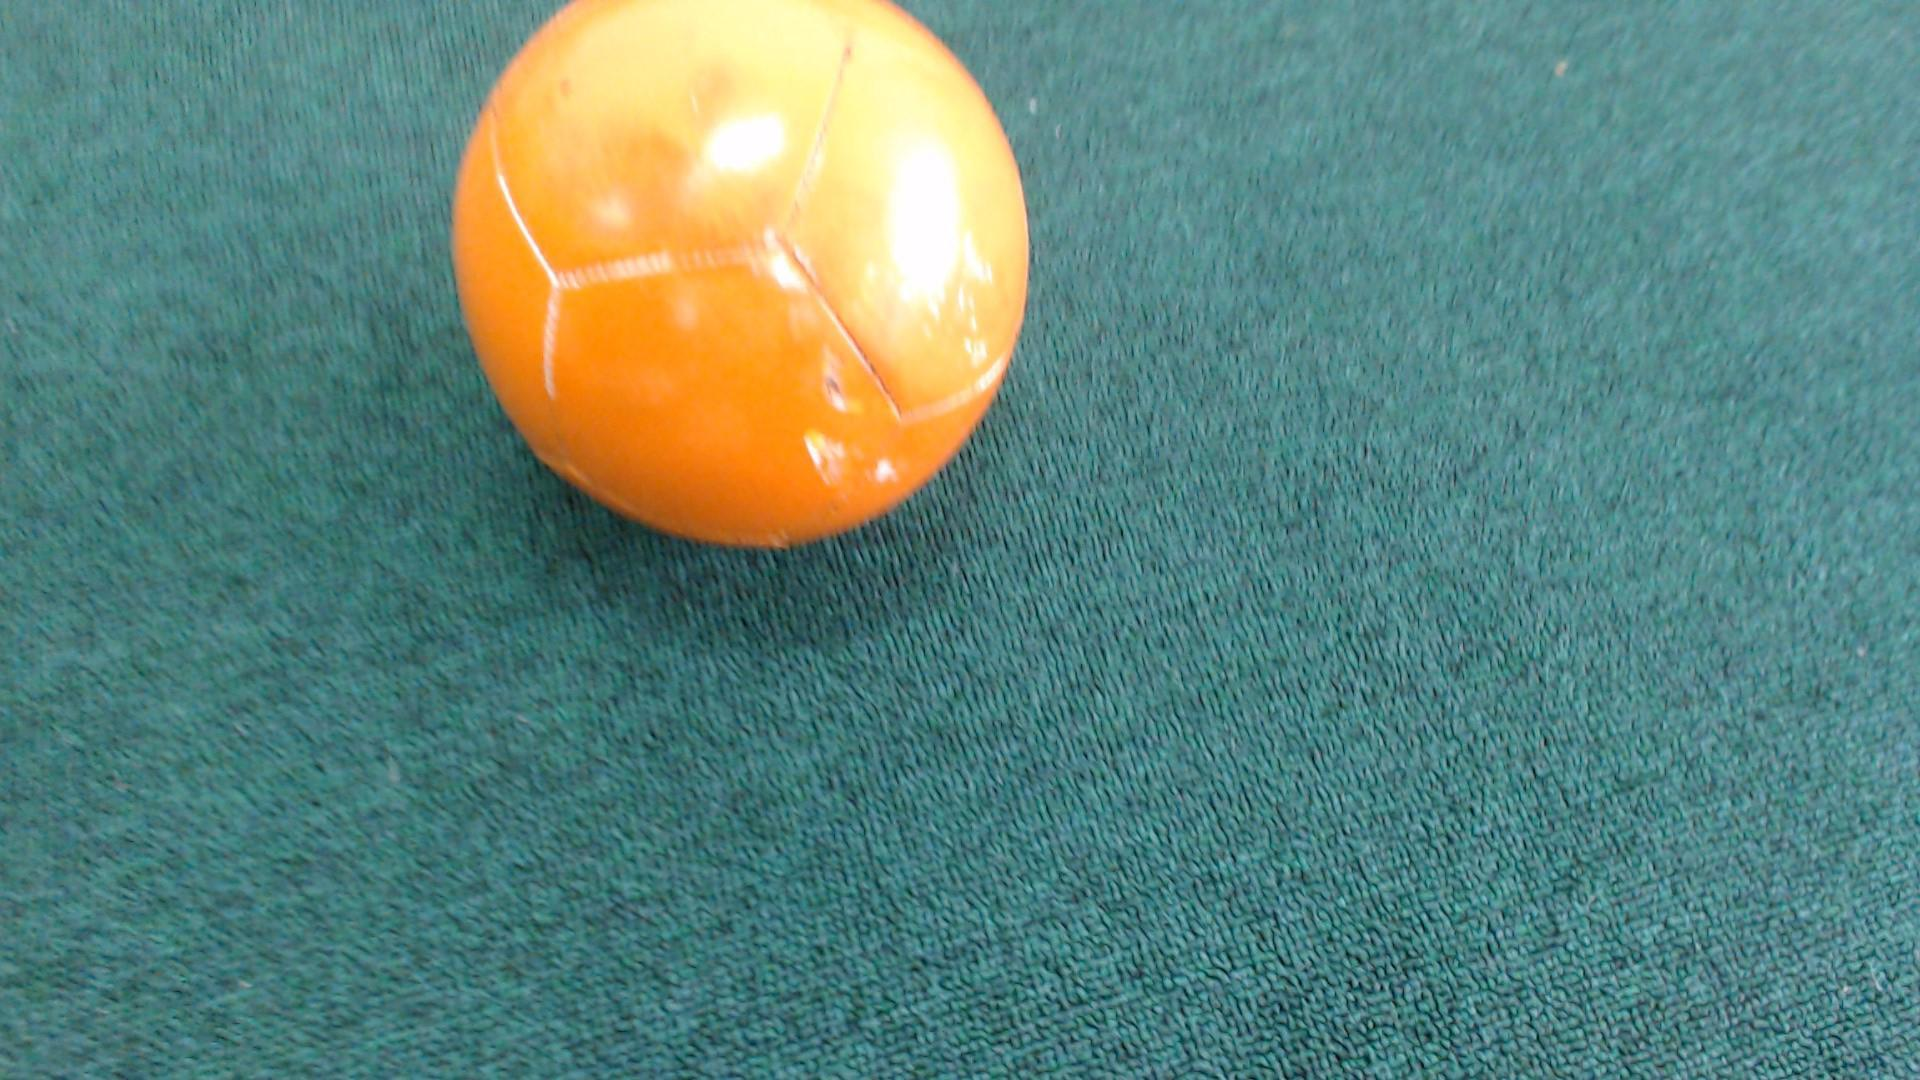bola: (404, 0, 1079, 600)
